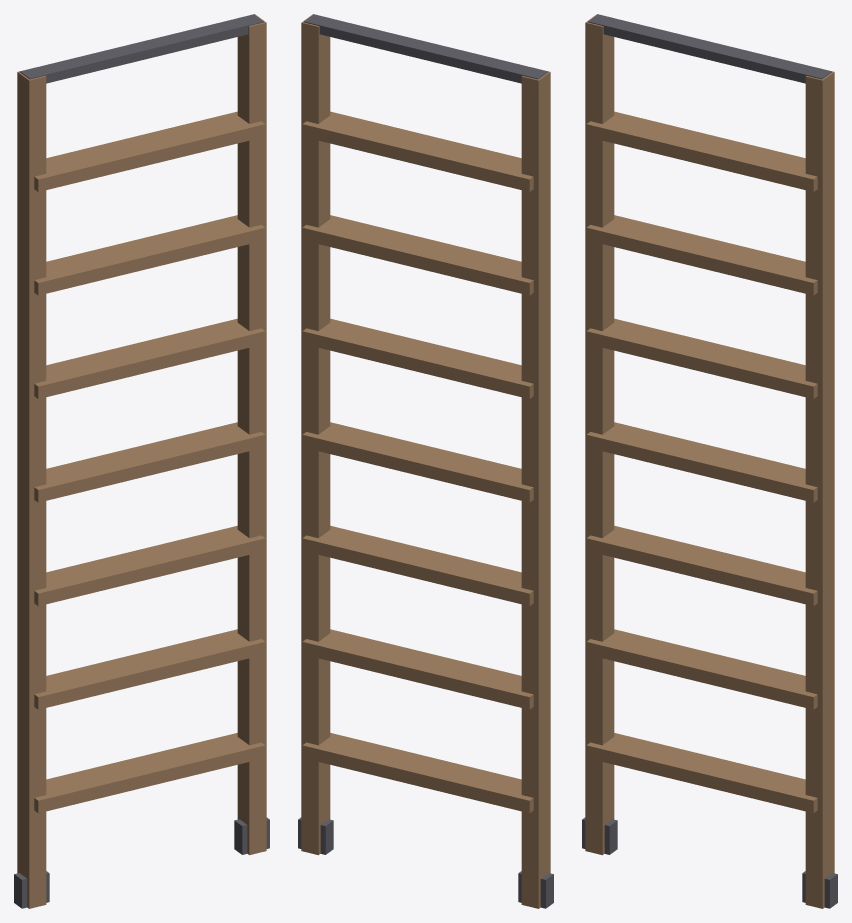
Rendered from rolling_ladder.glb.
The picture shows the model from 3 angles, left to right: view 1: azimuth 30°, elevation 25°; view 2: azimuth 150°, elevation 25°; view 3: azimuth 330°, elevation 25°; orthographic projection.
Visible parts, largest first — view 1: rolling_ladder; view 2: rolling_ladder; view 3: rolling_ladder.
Boxes of the visible parts, <box> form: rolling_ladder: <box>14,14,269,908</box>; rolling_ladder: <box>298,14,553,908</box>; rolling_ladder: <box>582,14,837,908</box>.
Size of the model in its own units: 0.72 by 2.3 by 0.1.
